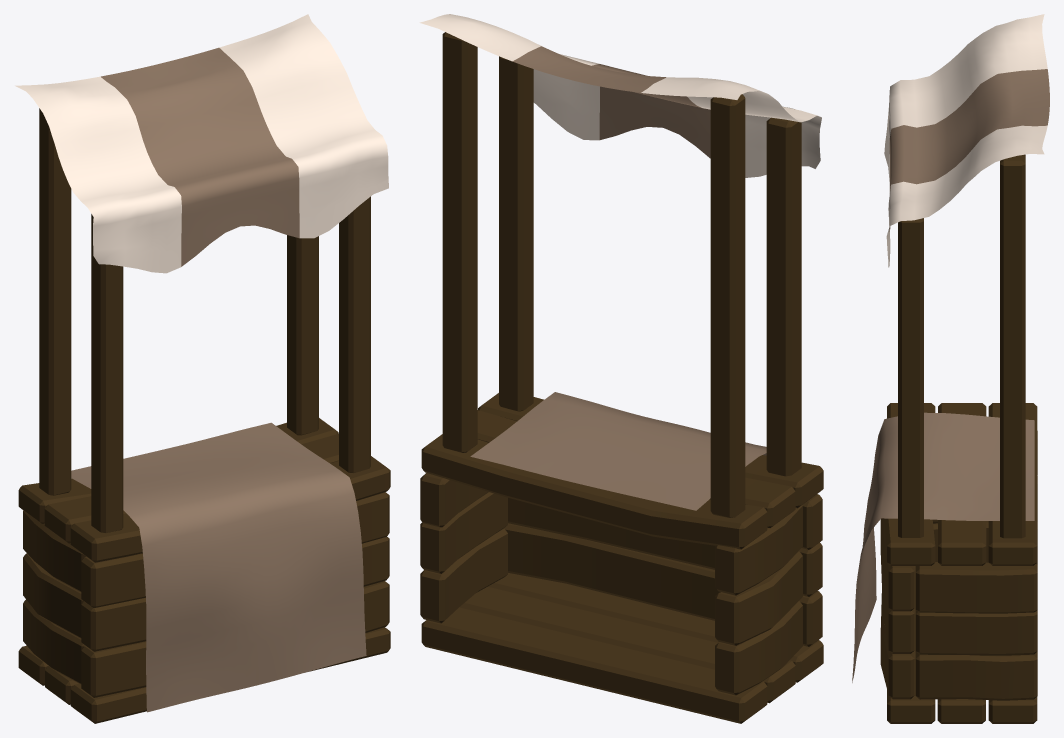
File: SmallMarketStall.fbx
The picture shows the model from 3 angles, left to right: view 1: azimuth 30°, elevation 25°; view 2: azimuth 150°, elevation 25°; view 3: azimuth 270°, elevation 25°; orthographic projection. The views are drawn at different scales.
Parts seen in each view (by area): view 1: SmallMarketStall2_Frame_polySurface674; view 2: SmallMarketStall2_Frame_polySurface674; view 3: SmallMarketStall2_Frame_polySurface674.
Part boxes in pixels (x1,y1,x2,y2): SmallMarketStall2_Frame_polySurface674: (15,14,390,723); SmallMarketStall2_Frame_polySurface674: (419,14,823,723); SmallMarketStall2_Frame_polySurface674: (852,14,1049,723).
Bounding box in the file's own units: 242 × 438 × 138.
